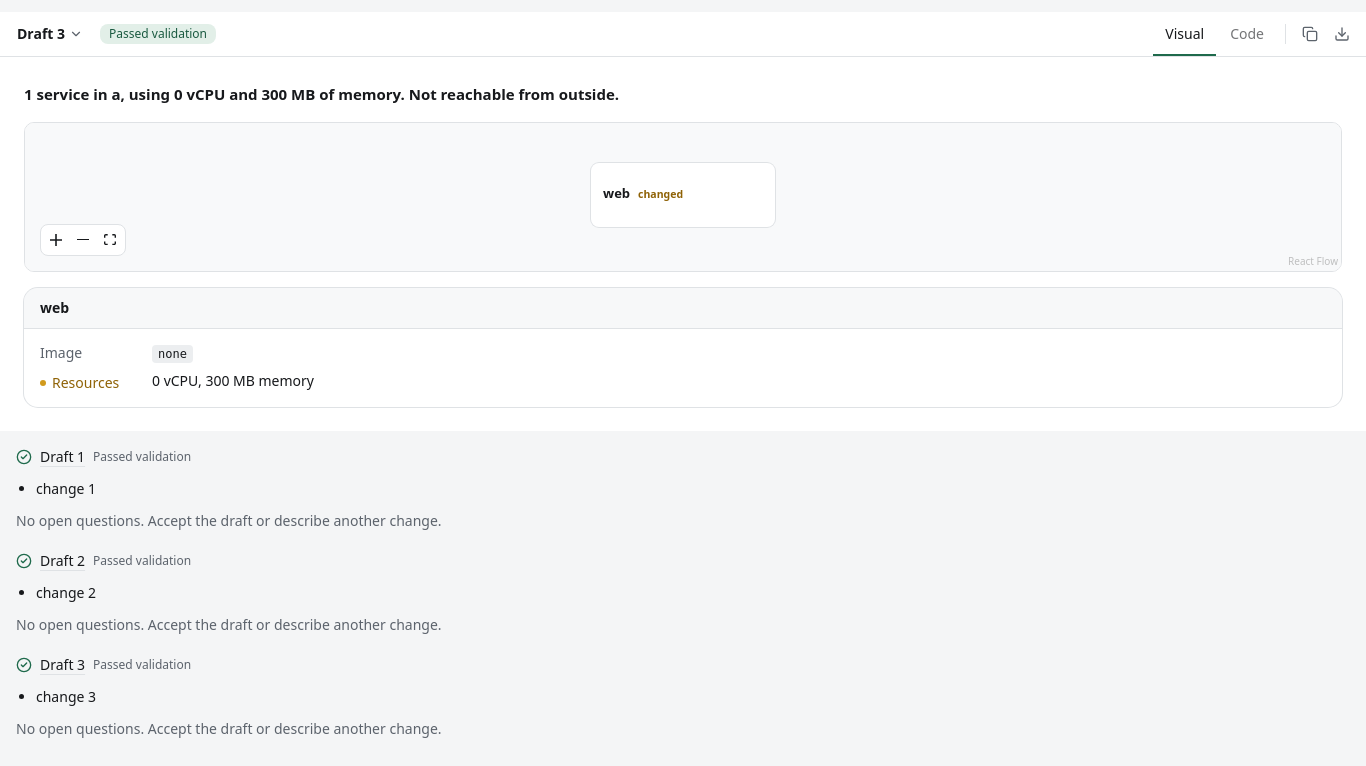
viewing an older draft › leaves the viewed draft when a failed attempt is loaded into the editor
Click the button with aria-label "View draft 1 in the SLA pane" at (63, 456), box [40,446,85,466]
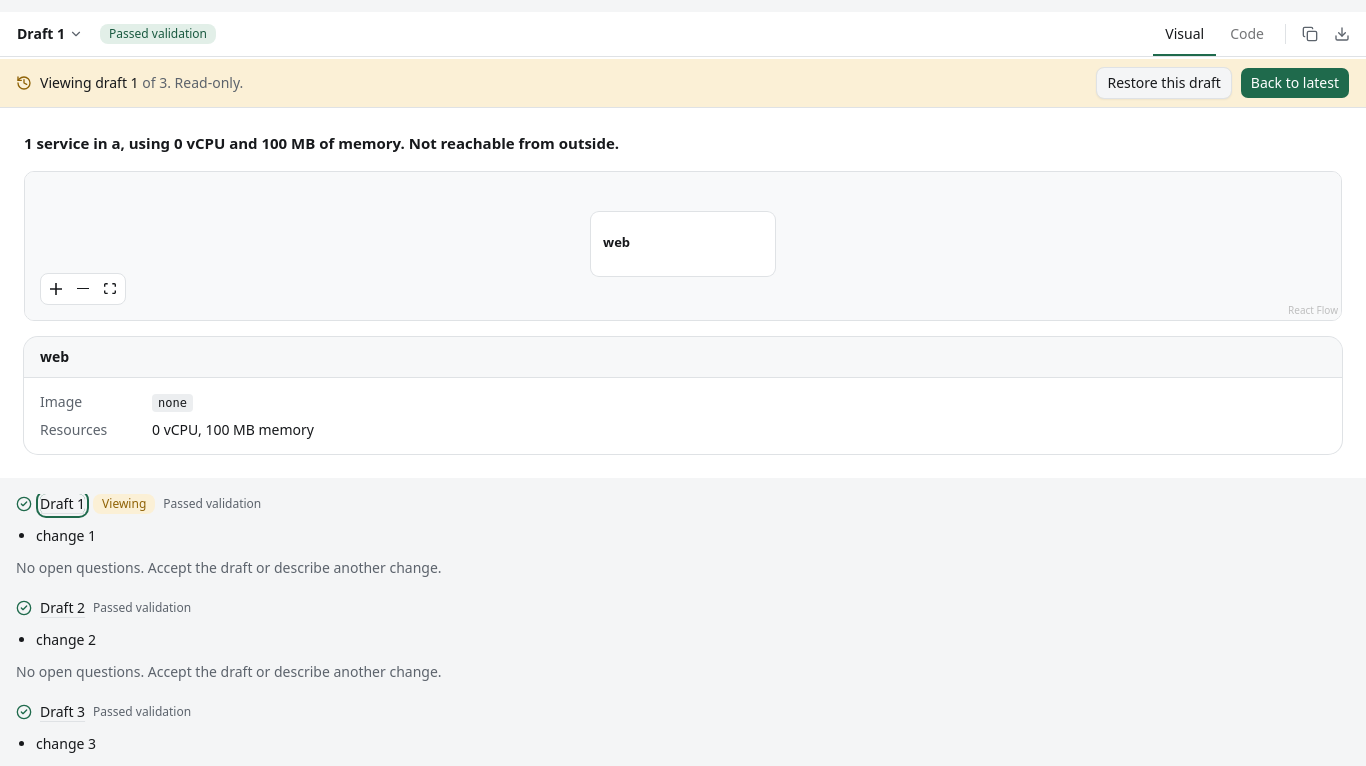
Result: the text "Viewing draft 1" is shown at [40,73,139,92]
